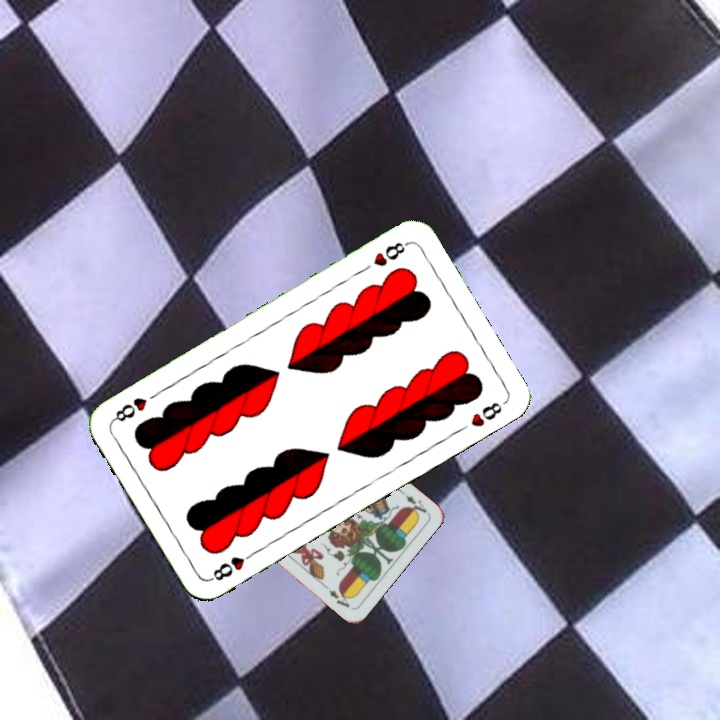EA: (396, 486, 430, 518)
H8: (205, 547, 259, 584), (369, 238, 411, 269)
